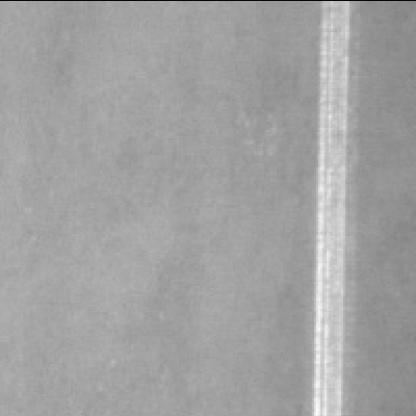scratches: (307, 15, 349, 416)
